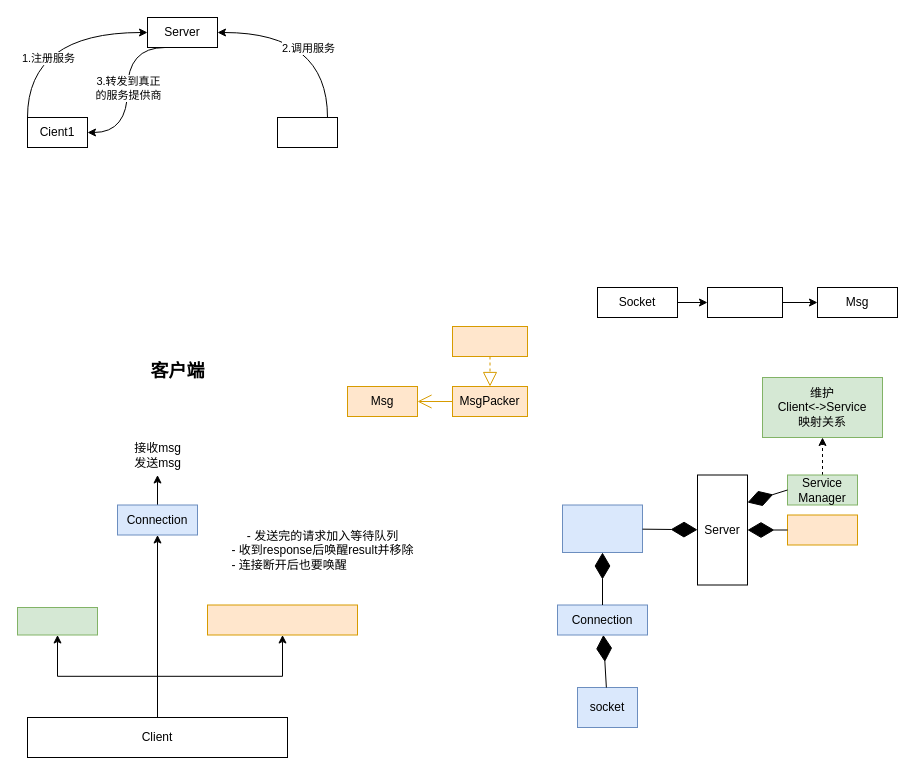
This 915x775 diagram has some shape labels left out. Each missing label, with the box of its shape:
Cient2: (276, 116, 338, 148)
Connection Manager: (562, 504, 642, 552)
JsonPacker: (452, 326, 528, 356)
MethodList: (16, 606, 98, 635)
MsgParser: (706, 286, 782, 318)
MsgQueue: (786, 514, 858, 545)
result_waiting_list: (206, 604, 358, 635)
